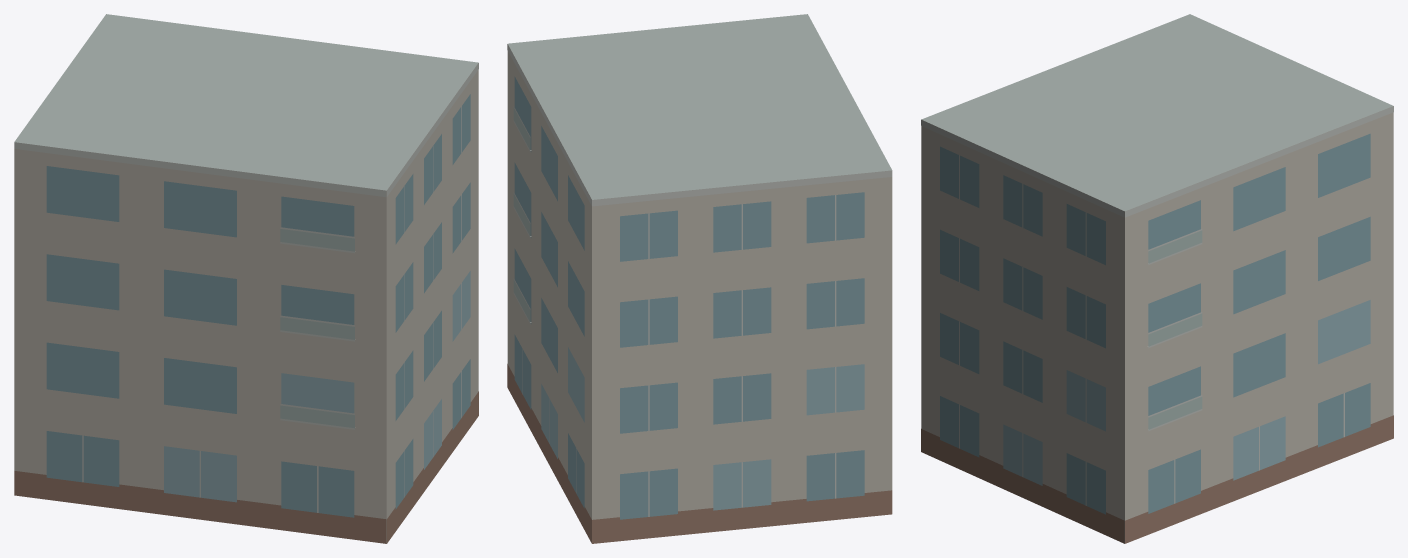
The model's file is survey-upis-32722712.glb.
The picture shows the model from 3 angles, left to right: view 1: azimuth 30°, elevation 25°; view 2: azimuth 150°, elevation 25°; view 3: azimuth 270°, elevation 25°; orthographic projection. The views are drawn at different scales.
Parts seen in each view (by area): view 1: survey-upis-32722712.tmp; view 2: survey-upis-32722712.tmp; view 3: survey-upis-32722712.tmp.
Boxes of the visible parts, x1,y1,x2,y2 form: survey-upis-32722712.tmp: (14,14,478,543); survey-upis-32722712.tmp: (507,14,892,543); survey-upis-32722712.tmp: (921,14,1393,543).
Size of the model in its own units: 16.44 by 12.9 by 16.63.
